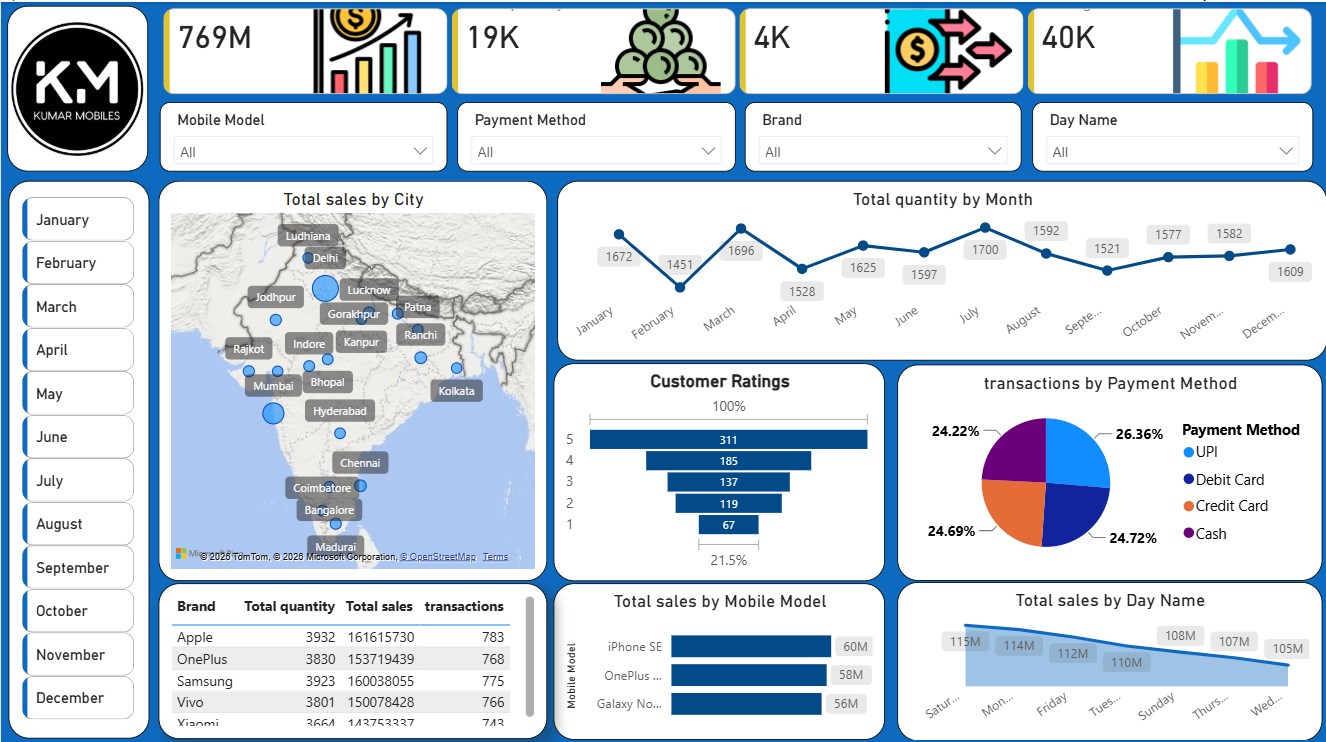

What the dashboard file says about the page in this screenshot:
{"tool":"powerbi","page":{"name":"Page 1","canvas":[1280,720],"ordinal":0},"visuals":[{"type":"shape","box":[6.2,3.8,136.2,160],"z":0},{"type":"image","box":[5,8.8,137.5,151.2],"z":1000},{"type":"shape","box":[7.5,172.5,136.2,538.8],"z":2000},{"type":"advancedSlicerVisual","fields":{"Values":["Sales_Data.Date.Variation.Date Hierarchy.Month"]},"box":[16.2,183.8,118.8,516.2],"z":3000},{"type":"cardVisual","fields":{"Data":["Sales_Data.Total sales","Sales_Data.Total quantity","Sales_Data.transactions","Sales_Data.Average"]},"box":[152,6,1122,88.1],"z":4000},{"type":"map","fields":{"Category":["Sales_Data.City"],"Size":["Sales_Data.Total sales"]},"box":[152.5,172.5,375,386.2],"z":5000},{"type":"lineChart","fields":{"Y":["Sales_Data.Total quantity"],"Category":["Sales_Data.Date.Variation.Date Hierarchy.Month","Sales_Data.Date.Variation.Date Hierarchy.Day"]},"box":[532.5,172.5,742.5,173.8],"z":6000},{"type":"clusteredBarChart","fields":{"Category":["Sales_Data.Mobile Model"],"Y":["Sales_Data.Total sales"]},"box":[533.8,561.2,320,151.2],"z":7000},{"type":"pieChart","fields":{"Category":["Sales_Data.Payment Method"],"Y":["Sales_Data.transactions"]},"box":[865,350,410,208.8],"z":8000},{"type":"funnel","title":"Customer Ratings ","fields":{"Category":["Sales_Data.Customer Ratings"],"Y":["CountNonNull(Sales_Data.Customer Ratings)"]},"box":[533.8,348.8,320,210],"z":9000},{"type":"areaChart","fields":{"Category":["Sales_Data.Day Name"],"Y":["Sales_Data.Total sales"]},"box":[865,560,410,153.8],"z":10000},{"type":"tableEx","fields":{"Values":["Sales_Data.Brand","Sales_Data.Total quantity","Sales_Data.Total sales","Sales_Data.transactions"]},"box":[152.5,561.2,375,150],"z":11000},{"type":"slicer","fields":{"Values":["Sales_Data.Mobile Model"]},"box":[153.8,96.2,277.5,67.5],"z":12000},{"type":"slicer","fields":{"Values":["Sales_Data.Payment Method"]},"box":[440,96.2,268.8,67.5],"z":13000},{"type":"slicer","fields":{"Values":["Sales_Data.Brand"]},"box":[717.5,96.2,267.5,67.5],"z":14000},{"type":"slicer","fields":{"Values":["Sales_Data.Day Name"]},"box":[995,96.2,271.2,67.5],"z":15000}]}

Visuals, with their boxes in screenshot pixels (x1, y1, x2, y2), scaled from the page's 1280x720 canvas onto the 1326x742 screenshot:
shape: left=6, top=4, right=148, bottom=169
image: left=5, top=9, right=148, bottom=165
shape: left=8, top=178, right=149, bottom=733
advancedSlicerVisual - Sales_Data.Date.Variation.Date Hierarchy.Month: left=17, top=189, right=140, bottom=721
cardVisual - Sales_Data.Total sales x Sales_Data.Total quantity: left=157, top=6, right=1320, bottom=97
map - Sales_Data.City x Sales_Data.Total sales: left=158, top=178, right=546, bottom=576
lineChart - Sales_Data.Total quantity x Sales_Data.Date.Variation.Date Hierarchy.Month: left=552, top=178, right=1321, bottom=357
clusteredBarChart - Sales_Data.Mobile Model x Sales_Data.Total sales: left=553, top=578, right=884, bottom=734
pieChart - Sales_Data.Payment Method x Sales_Data.transactions: left=896, top=361, right=1321, bottom=576
"Customer Ratings " funnel: left=553, top=359, right=884, bottom=576
areaChart - Sales_Data.Day Name x Sales_Data.Total sales: left=896, top=577, right=1321, bottom=736
tableEx - Sales_Data.Brand x Sales_Data.Total quantity: left=158, top=578, right=546, bottom=733
slicer - Sales_Data.Mobile Model: left=159, top=99, right=447, bottom=169
slicer - Sales_Data.Payment Method: left=456, top=99, right=734, bottom=169
slicer - Sales_Data.Brand: left=743, top=99, right=1020, bottom=169
slicer - Sales_Data.Day Name: left=1031, top=99, right=1312, bottom=169
